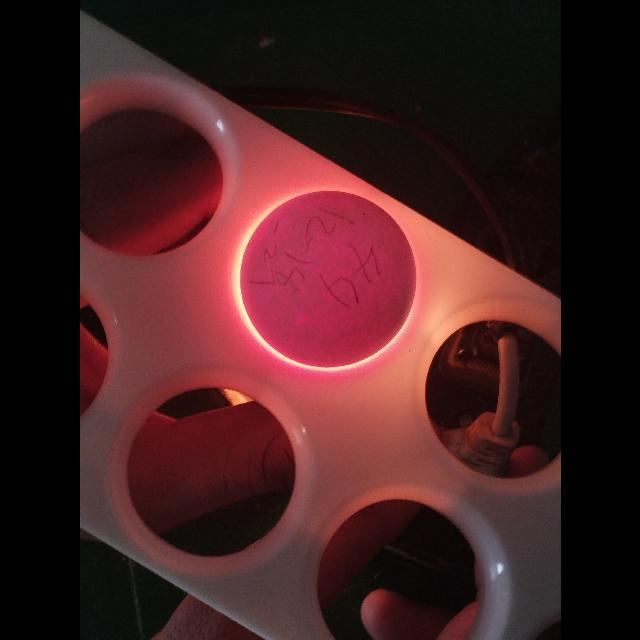Infertile: (238, 188, 418, 370)
